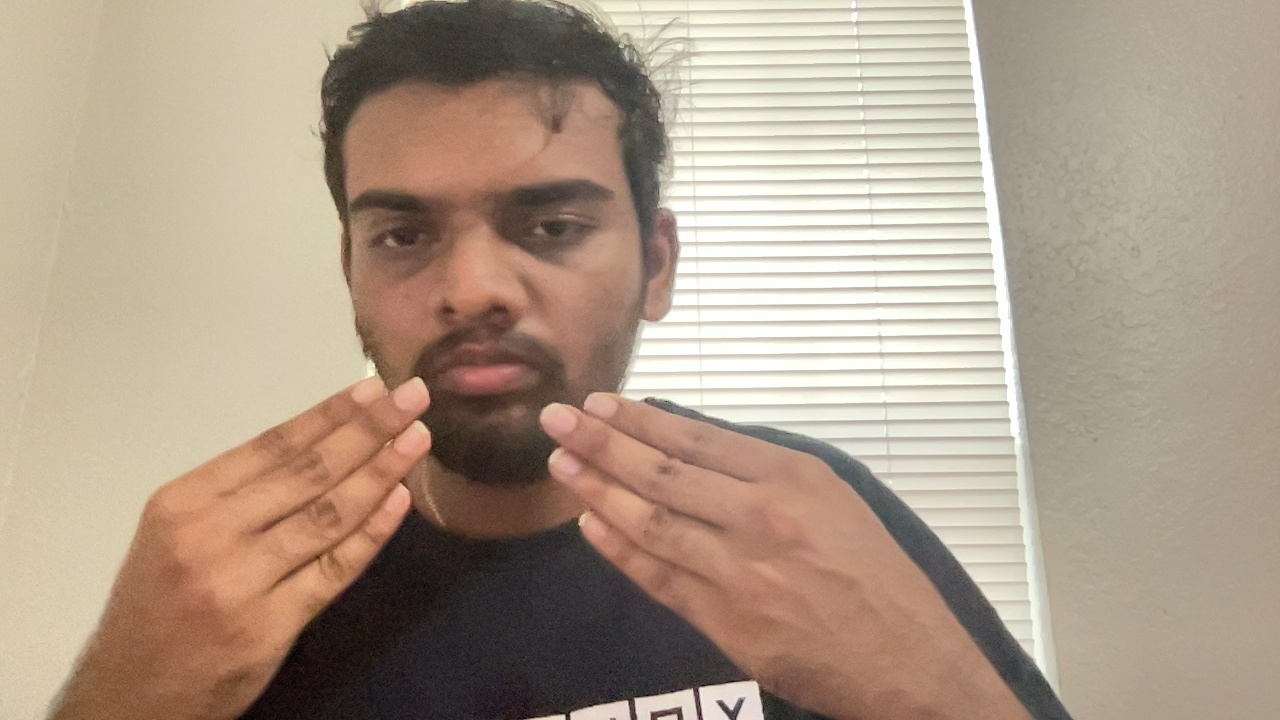thanks: (90, 366, 953, 686)
